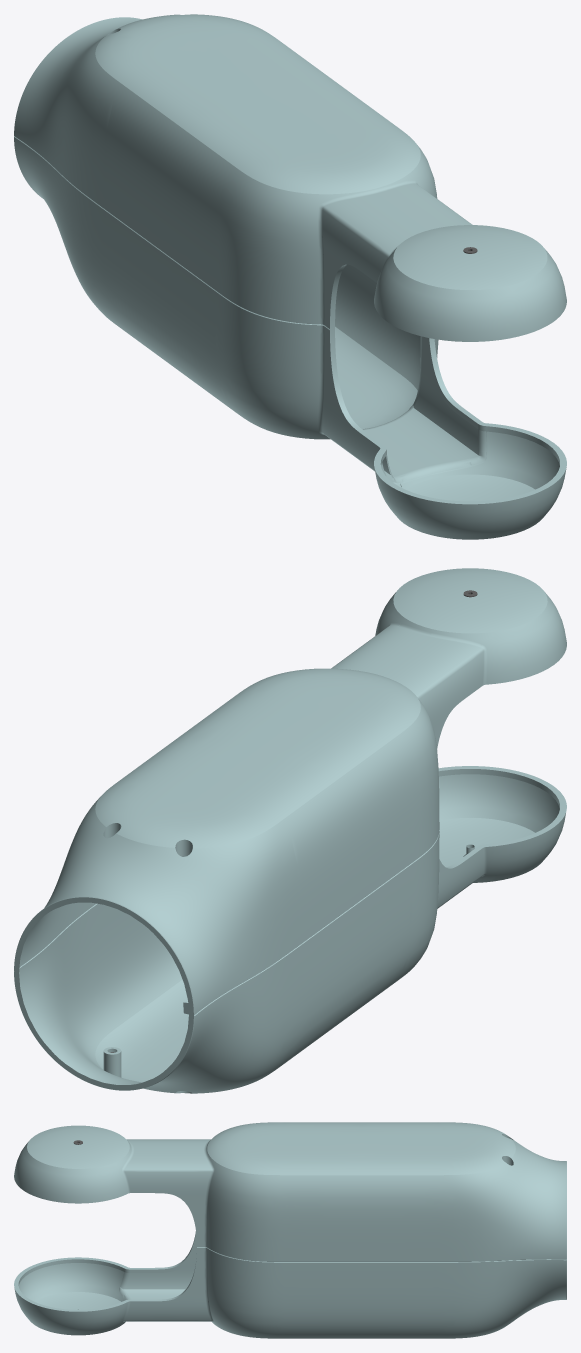
The model's file is left_arm_link5.obj.
The picture shows the model from 3 angles, top to bottom: view 1: azimuth 30°, elevation 25°; view 2: azimuth 150°, elevation 25°; view 3: azimuth 270°, elevation 25°; orthographic projection. The views are drawn at different scales.
Parts seen in each view (by area): view 1: 1; view 2: 1; view 3: 1.
Boxes of the visible parts, left/top/right/bottom form: 1: left=14, top=14, right=566, bottom=539; 1: left=14, top=568, right=566, bottom=1093; 1: left=14, top=1122, right=566, bottom=1338.
Bounding box in the file's own units: 0.076 × 0.0987 × 0.2802.
